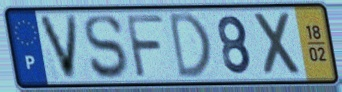8: (216, 14, 254, 77)
D: (167, 10, 214, 82)
F: (123, 13, 166, 81)
S: (82, 12, 130, 81)
V: (35, 13, 81, 82)
X: (251, 10, 305, 79)
